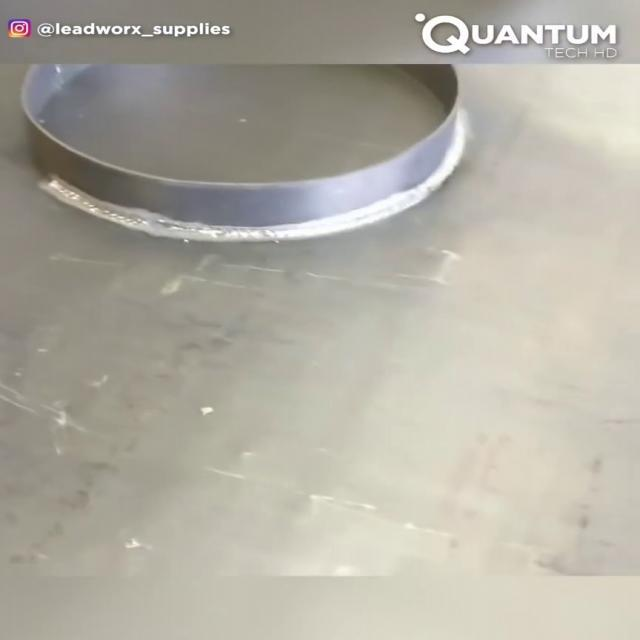Good Weld: (114, 208, 418, 240), (48, 176, 102, 214), (411, 174, 471, 199)
